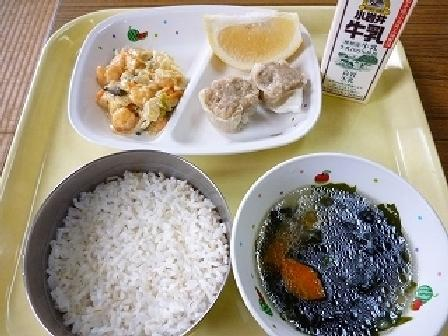Citrus: (198, 7, 317, 68)
Milk: (314, 0, 426, 99)
Rice: (27, 160, 235, 332)
Soups: (242, 172, 433, 335)
cutlet: (198, 63, 313, 130)
salad with sauce: (87, 45, 190, 137)
